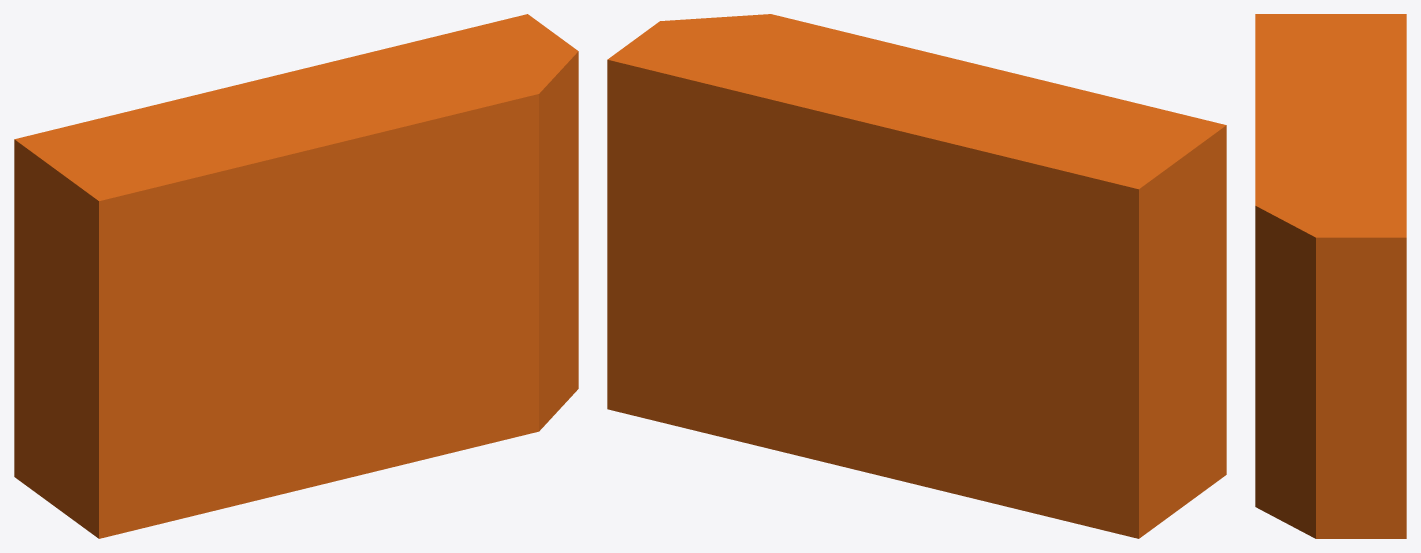
The model's file is chassis.obj.
The picture shows the model from 3 angles, left to right: view 1: azimuth 30°, elevation 25°; view 2: azimuth 150°, elevation 25°; view 3: azimuth 270°, elevation 25°; orthographic projection. The views are drawn at different scales.
Parts seen in each view (by area): view 1: roof, right, rear, slope; view 2: bottom, right, rear; view 3: right, nose, slope.
Boxes of the visible parts, left/top/right/bottom form: roof: left=99, top=94, right=538, bottom=538; right: left=14, top=14, right=578, bottom=200; rear: left=14, top=139, right=98, bottom=538; slope: left=539, top=51, right=578, bottom=431; bottom: left=607, top=59, right=1138, bottom=538; right: left=608, top=14, right=1226, bottom=189; rear: left=1139, top=125, right=1226, bottom=538; right: left=1255, top=14, right=1406, bottom=237; nose: left=1316, top=237, right=1406, bottom=538; slope: left=1255, top=206, right=1315, bottom=538.
Size of the model in its own units: 0.7 by 0.44 by 0.2.
